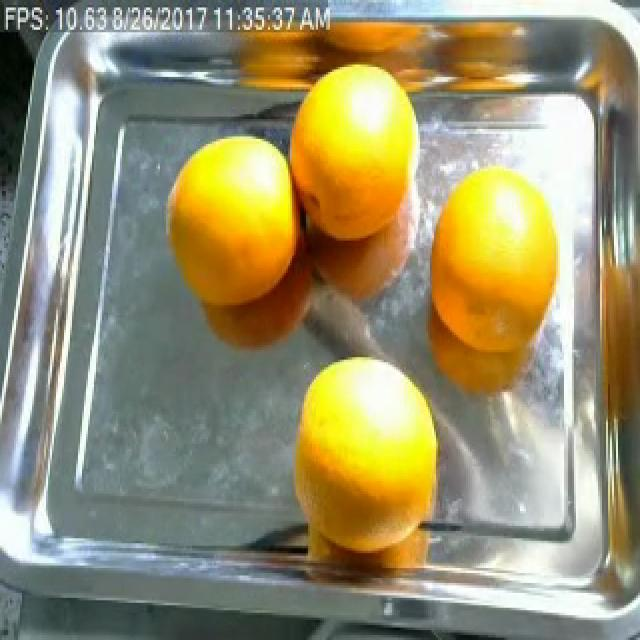Fruit: (154, 119, 312, 328), (280, 345, 450, 531)
